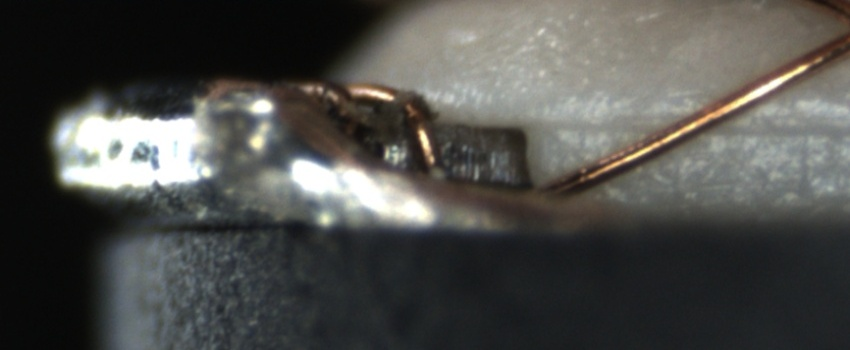CL: (830, 2, 850, 55)
DL: (553, 91, 850, 156)
TE: (310, 75, 443, 166)
